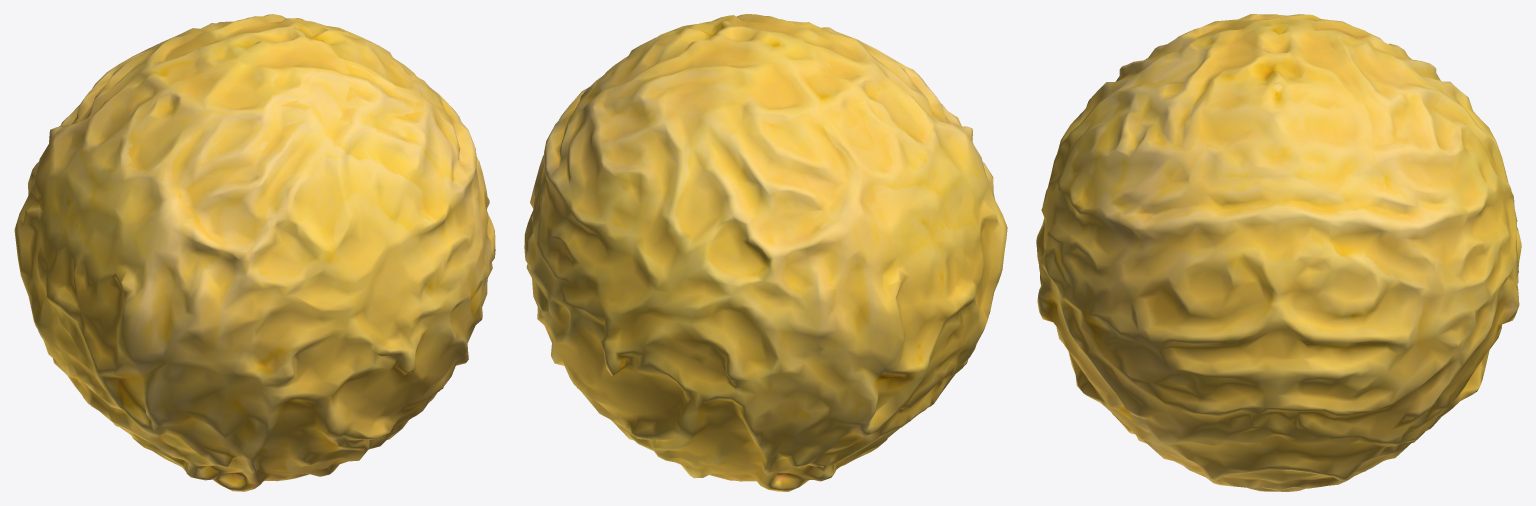
The model's file is Swirled.glb.
The picture shows the model from 3 angles, left to right: view 1: azimuth 30°, elevation 25°; view 2: azimuth 150°, elevation 25°; view 3: azimuth 270°, elevation 25°; orthographic projection. The views are drawn at different scales.
Size of the model in its own units: 1.98 by 1.97 by 1.98.
Materials: 1 (1 with a texture image).
